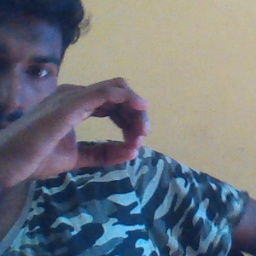O: (10, 75, 150, 183)
